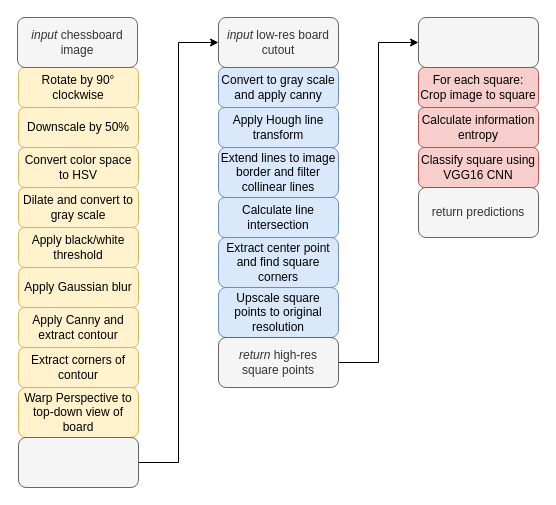
The diagram is 556 pixels wide and 505 high, and some of its shapes have lost their labels. The shapes that lost their labels are listed below. From the top down, each one's box as (x1, y1, x2, y2) in pixels, then its label:
(418, 16, 538, 68): input high-res board cutout and square points
(18, 436, 138, 488): return low-res and high-res board cutout
